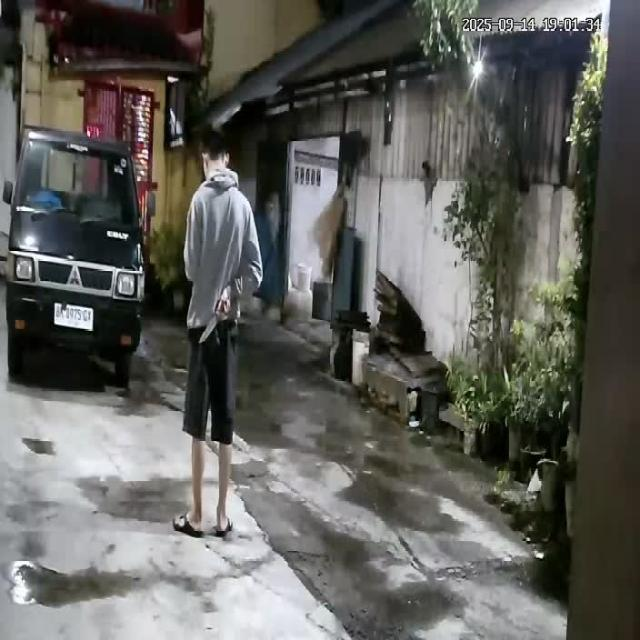senjata_tajam: (196, 315, 218, 346)
